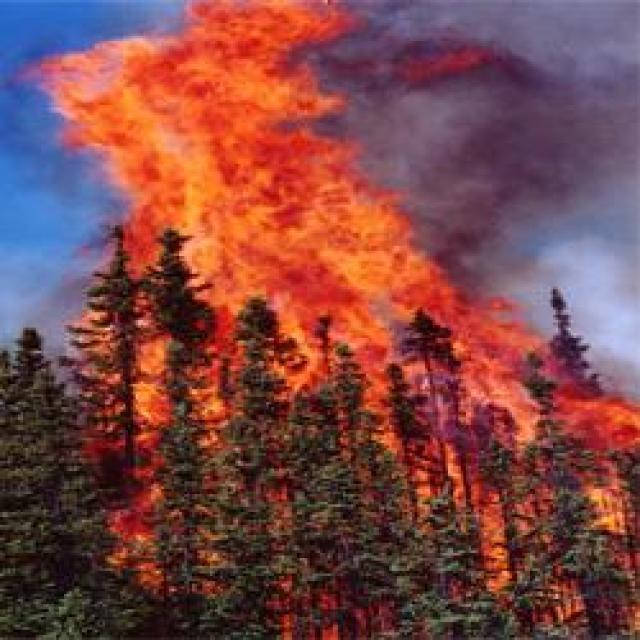Fire: (42, 6, 640, 636)
Smoke: (335, 0, 640, 297)
